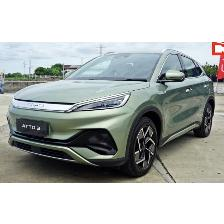EV: (7, 49, 217, 179)
